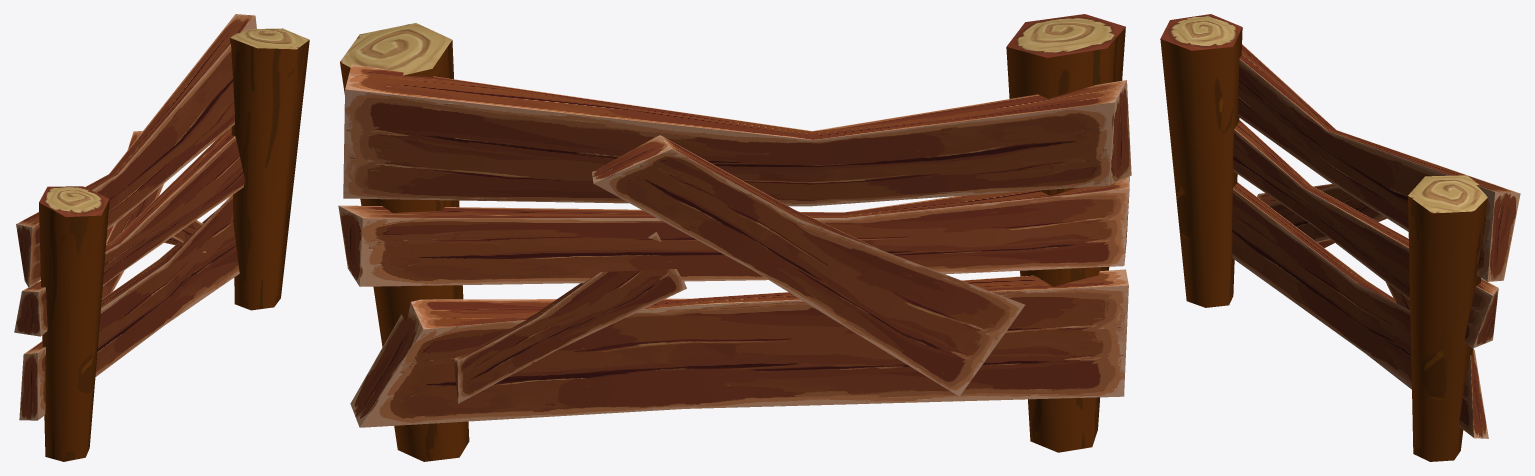
File: Fence1.fbx
3 views of the same model, side by side, from view 1: azimuth 30°, elevation 25°; view 2: azimuth 150°, elevation 25°; view 3: azimuth 270°, elevation 25° (orthographic). The views are drawn at different scales.
Parts seen in each view (by area): view 1: SM_PROP_fence_v02_04; view 2: SM_PROP_fence_v02_04; view 3: SM_PROP_fence_v02_04.
Boxes of the visible parts, box(x1,y1,x2,y2) form: SM_PROP_fence_v02_04: box(14, 14, 309, 461); SM_PROP_fence_v02_04: box(338, 14, 1131, 461); SM_PROP_fence_v02_04: box(1160, 14, 1520, 461).
Bounding box in the file's own units: 185 × 117 × 139.
